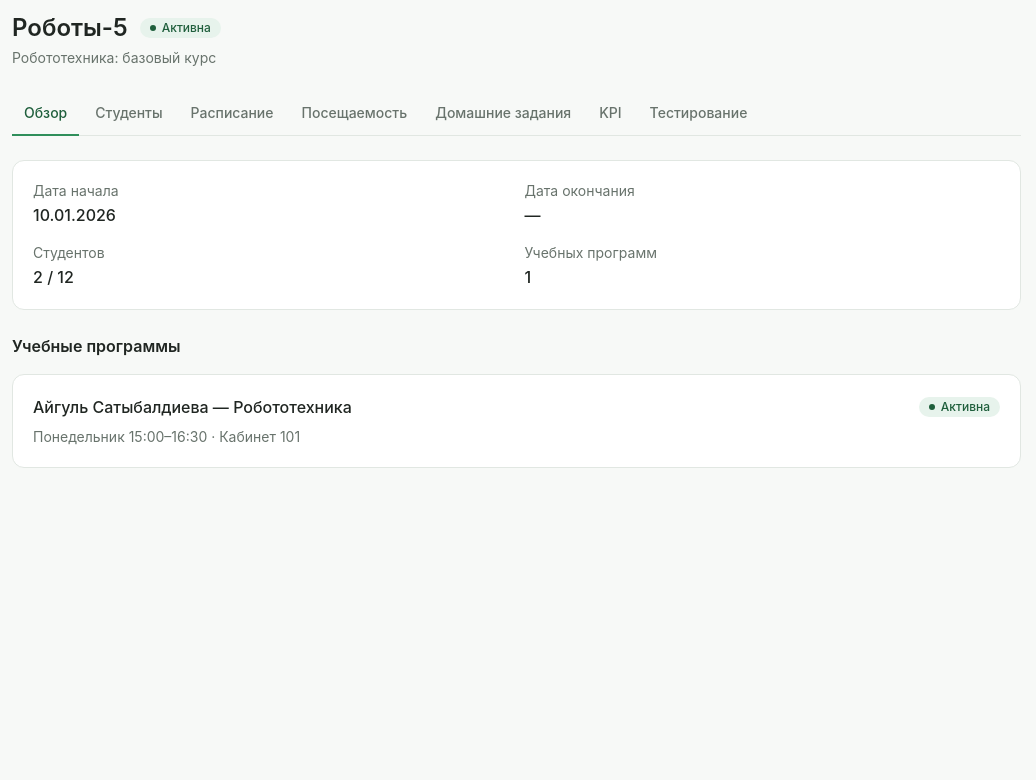
Scenario: GroupDetailPage › shows the empty state only when the period has no lessons at all
Expected: the heading "Роботы-5" is shown, left=12, top=12, right=128, bottom=44
Step 1. Click the tab "KPI" → (610, 114), box left=587, top=92, right=634, bottom=136
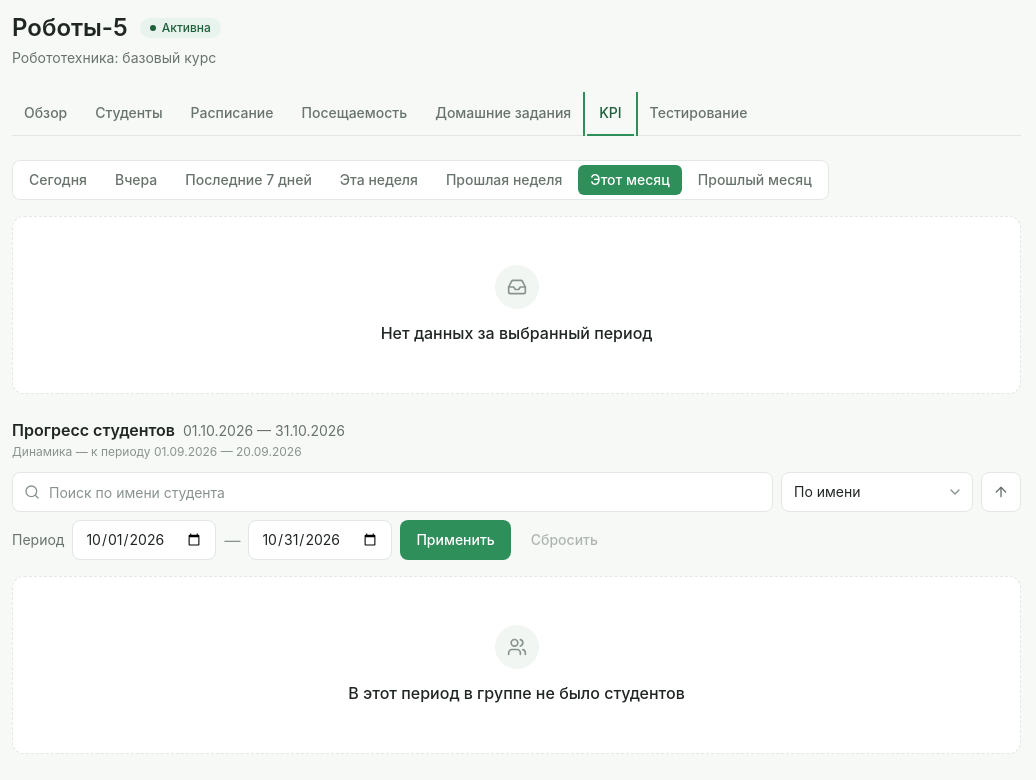
Expected: the text "Нет данных за выбранный период" is shown, left=381, top=321, right=652, bottom=345
